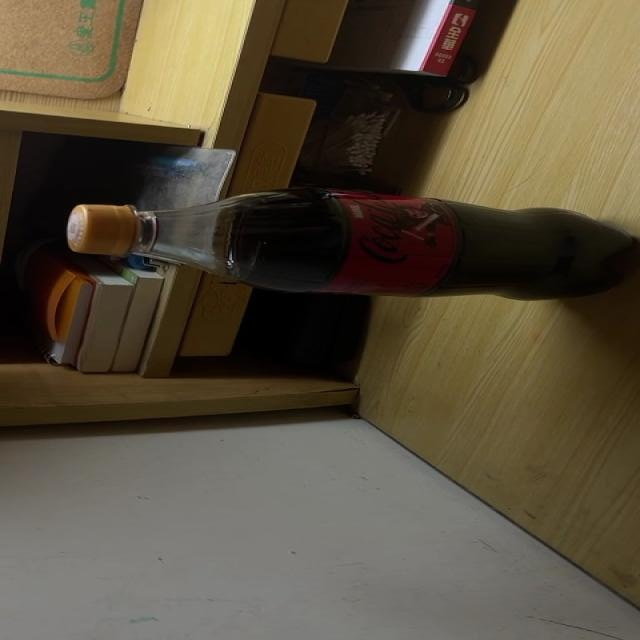Coca-Cola: (64, 188, 640, 302)
